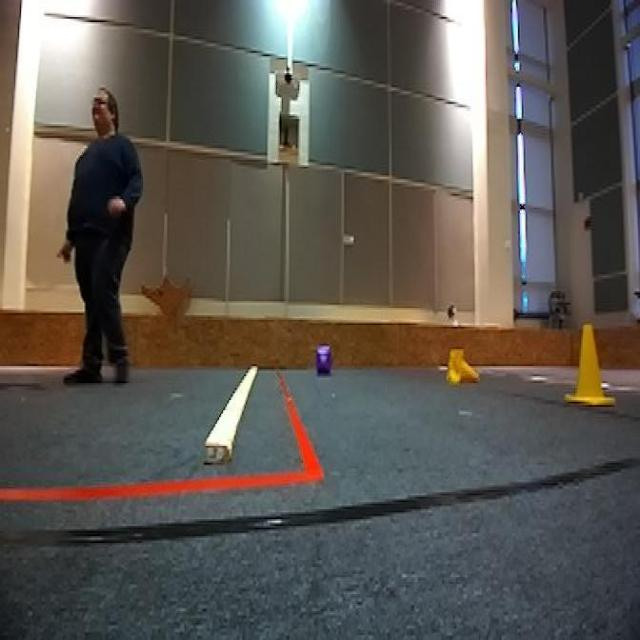frc_cone: (566, 320, 608, 412), (442, 346, 479, 388)
frc_cube: (312, 345, 333, 378)
